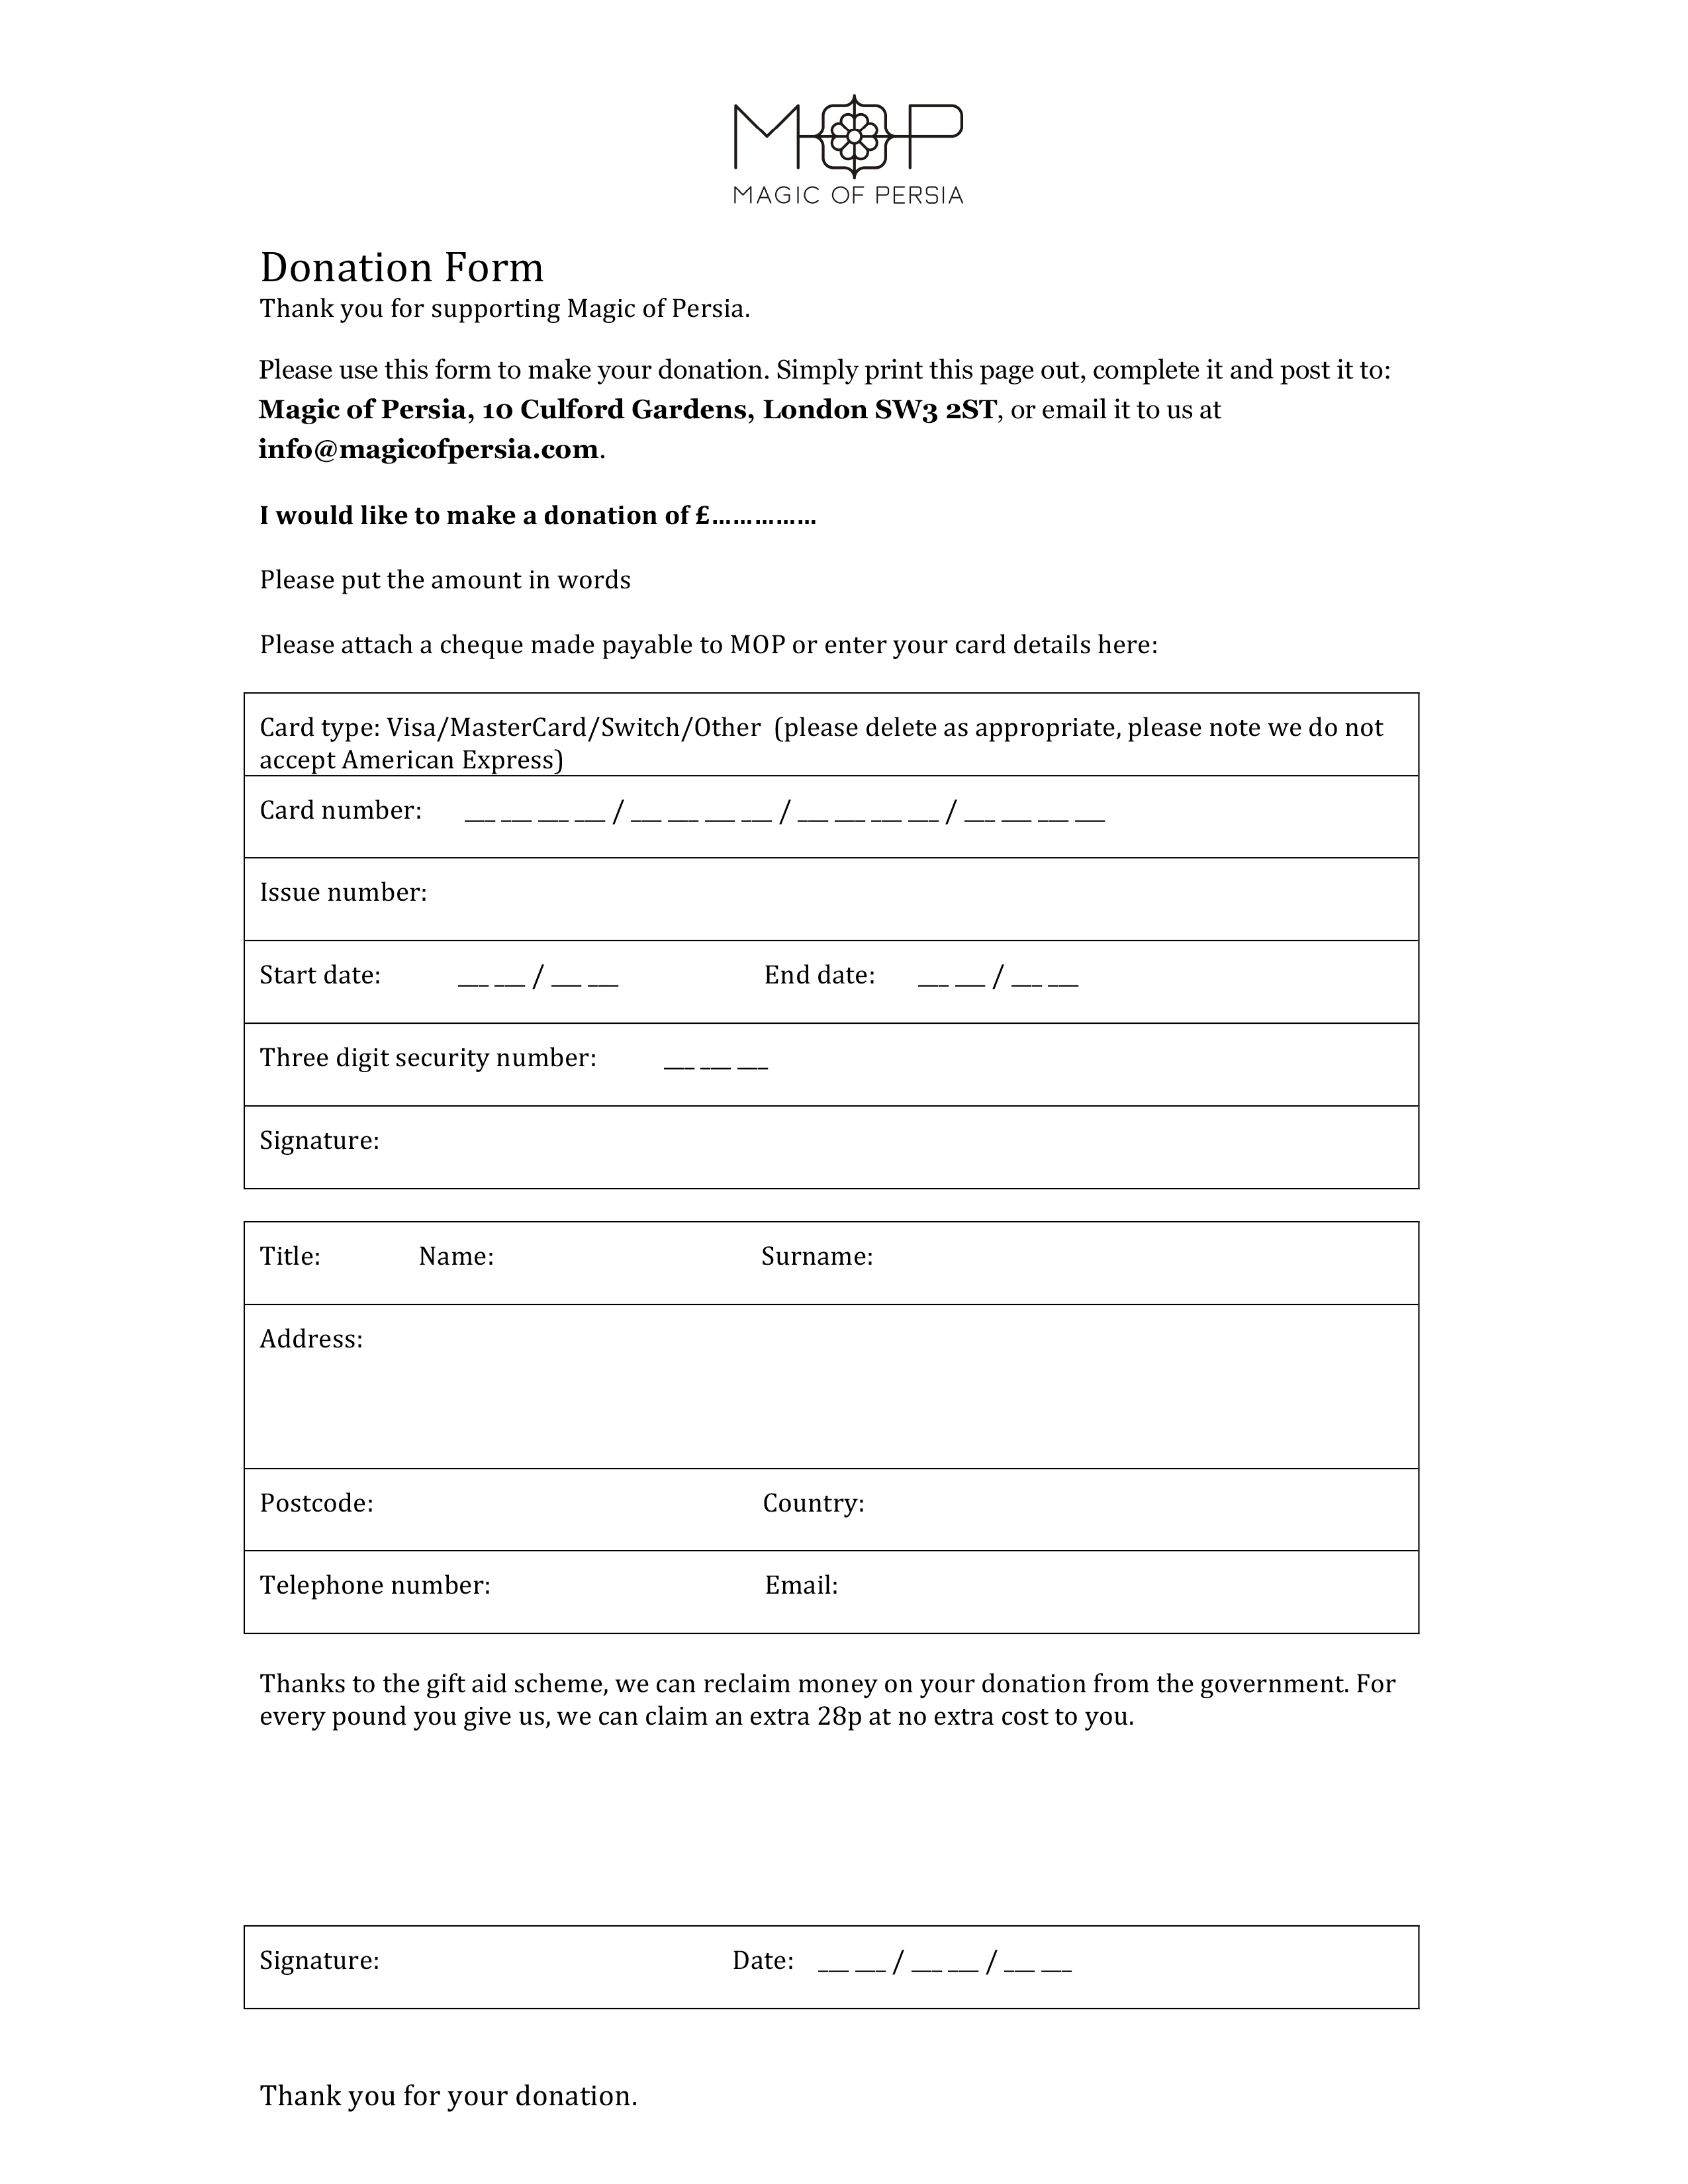textbox: (236, 1298, 1429, 1478), (239, 1092, 1426, 1195), (238, 1213, 1434, 1314), (236, 1461, 1429, 1556), (234, 1546, 1429, 1640), (236, 853, 1429, 945), (234, 1920, 729, 2014)
textline: (461, 776, 1137, 831), (809, 1932, 1082, 1980), (610, 778, 787, 838), (963, 776, 1137, 837), (787, 776, 961, 833), (461, 778, 606, 838), (911, 943, 1082, 993), (454, 948, 626, 994), (713, 482, 823, 532), (656, 1035, 775, 1076), (904, 1932, 986, 1982), (810, 1930, 894, 1978), (915, 945, 991, 994), (543, 948, 626, 993), (998, 1934, 1078, 1980), (454, 948, 534, 993), (1005, 950, 1080, 993), (791, 776, 832, 837), (1035, 776, 1076, 837), (906, 778, 945, 837), (532, 776, 573, 831), (702, 780, 739, 838), (1000, 776, 1034, 838), (1076, 776, 1110, 838), (833, 778, 869, 837), (871, 778, 906, 837), (904, 1930, 943, 1984), (741, 778, 775, 838), (945, 1929, 982, 1982), (667, 780, 700, 838), (965, 776, 998, 835), (851, 1930, 892, 1978), (1000, 1934, 1039, 1984), (629, 780, 663, 837), (498, 780, 535, 830), (463, 780, 498, 831), (573, 780, 606, 833), (952, 948, 989, 994), (917, 947, 952, 994), (583, 950, 624, 991), (493, 950, 532, 993), (1009, 950, 1046, 993), (816, 1936, 851, 1980), (1039, 1936, 1075, 1980), (658, 1035, 697, 1074), (546, 950, 583, 991), (1046, 950, 1080, 993), (697, 1039, 734, 1076), (456, 954, 491, 993), (736, 1037, 771, 1076)
